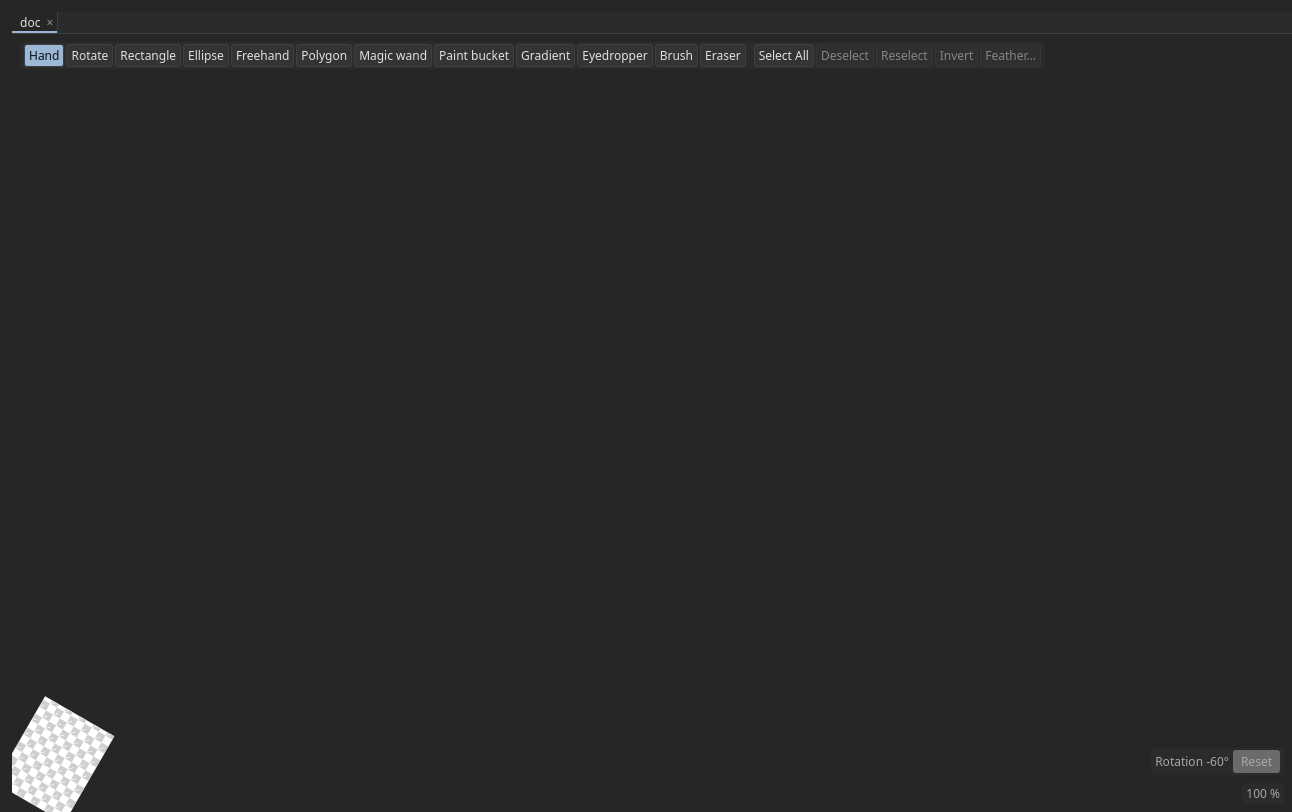
Scenario: EditorView rotate view › the reset button sets the rotation to 0
Click the button "Reset": (1256, 762) x1=1233 y1=750 x2=1280 y2=773
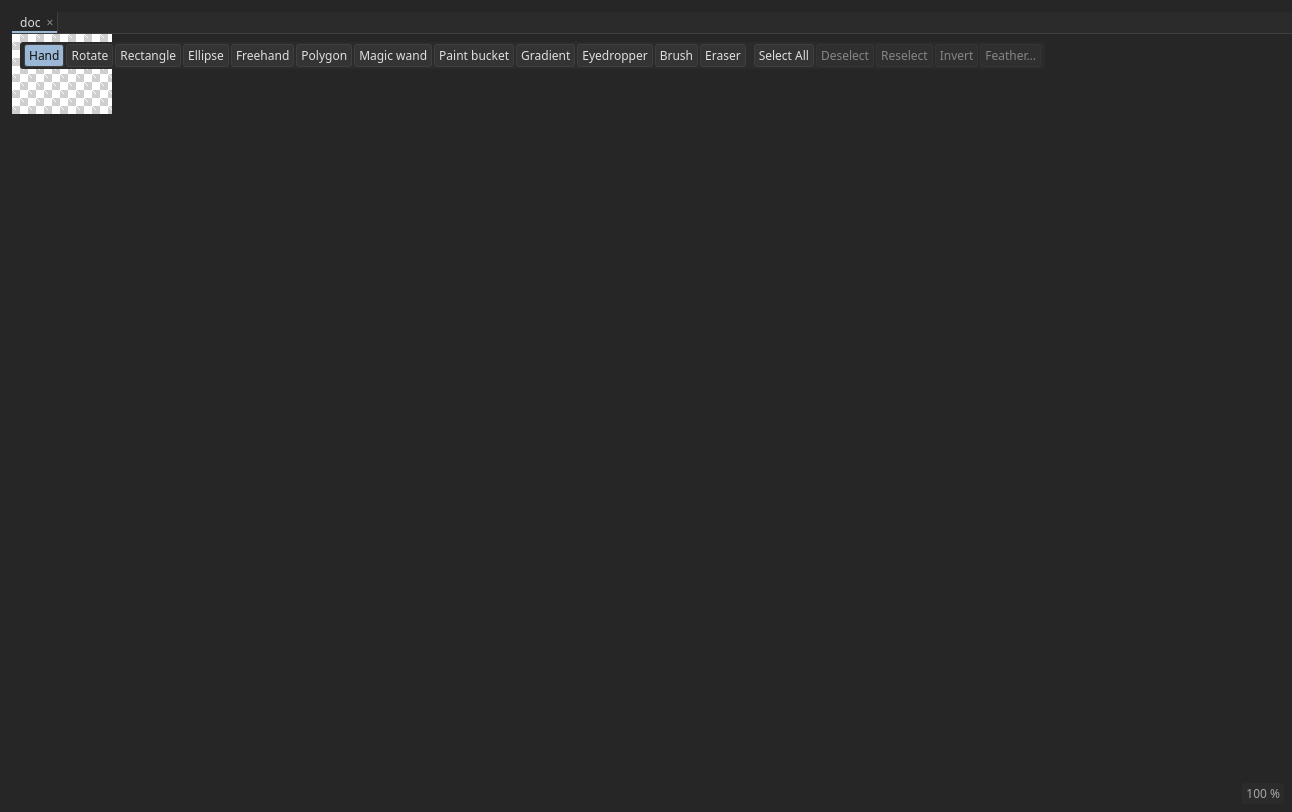
Now the element with test id "rotation-readout" is gone
